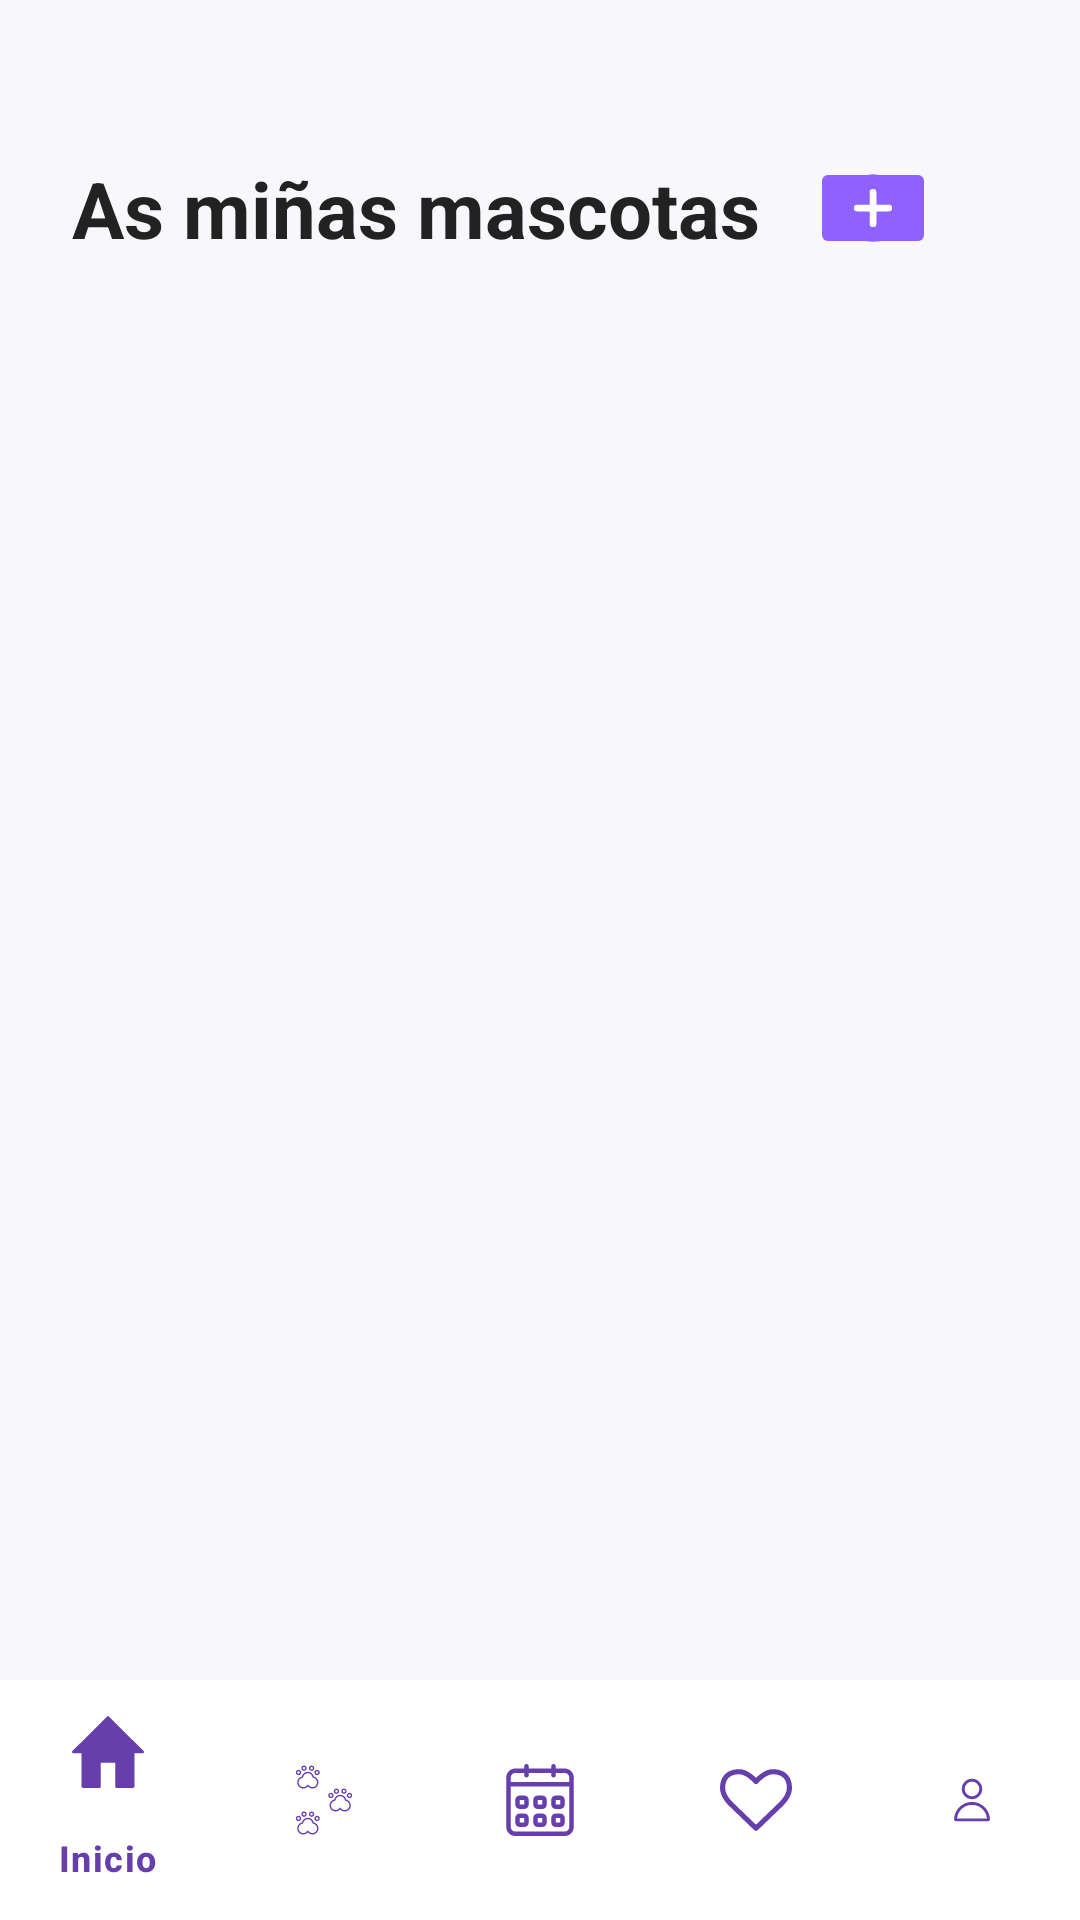

Icons on this 1080x1920 Android screen, each with its box as bbox=[x1, y1, x2, y2]:
mas: bbox=[822, 174, 924, 242]
